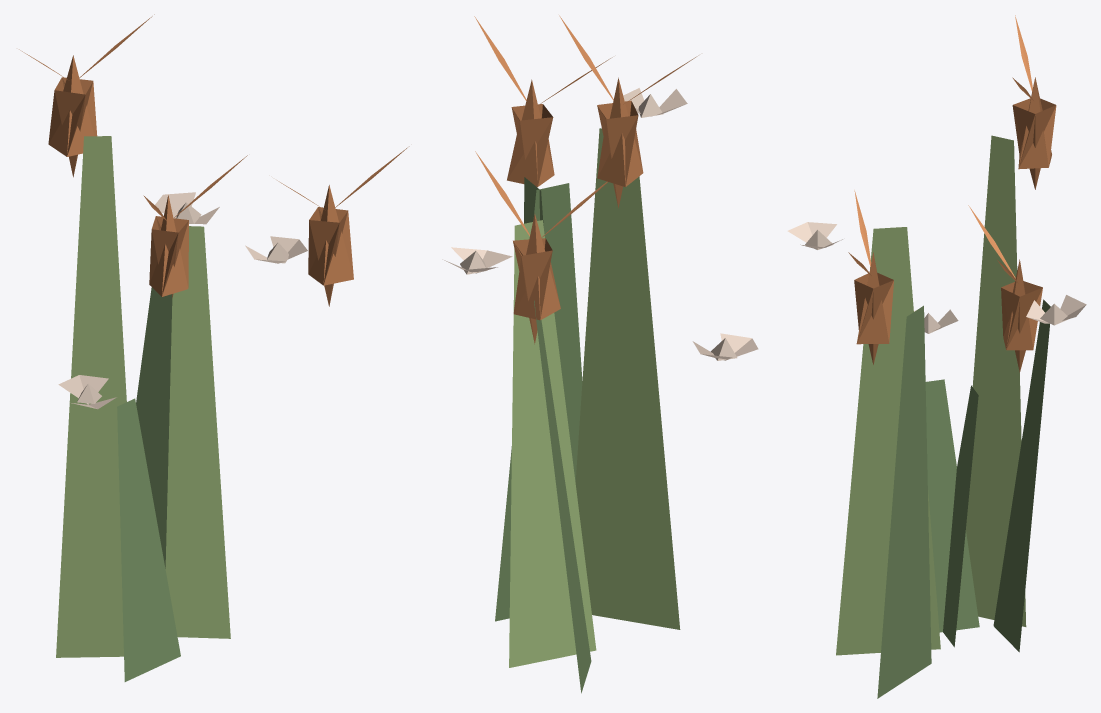
Rendered from nong.mai__spring.glb.
3 renders of one model, left to right at view 1: azimuth 30°, elevation 25°; view 2: azimuth 150°, elevation 25°; view 3: azimuth 270°, elevation 25°, orthographic. The views are drawn at different scales.
Visible parts, largest first — view 1: nong.mai__spring; view 2: nong.mai__spring; view 3: nong.mai__spring.
Boxes of the visible parts, left/top/right/bottom form: nong.mai__spring: left=19, top=14, right=409, bottom=681; nong.mai__spring: left=442, top=15, right=758, bottom=693; nong.mai__spring: left=787, top=15, right=1086, bottom=698.
Bounding box in the file's own units: 0.5635 × 1.09 × 0.5144.
